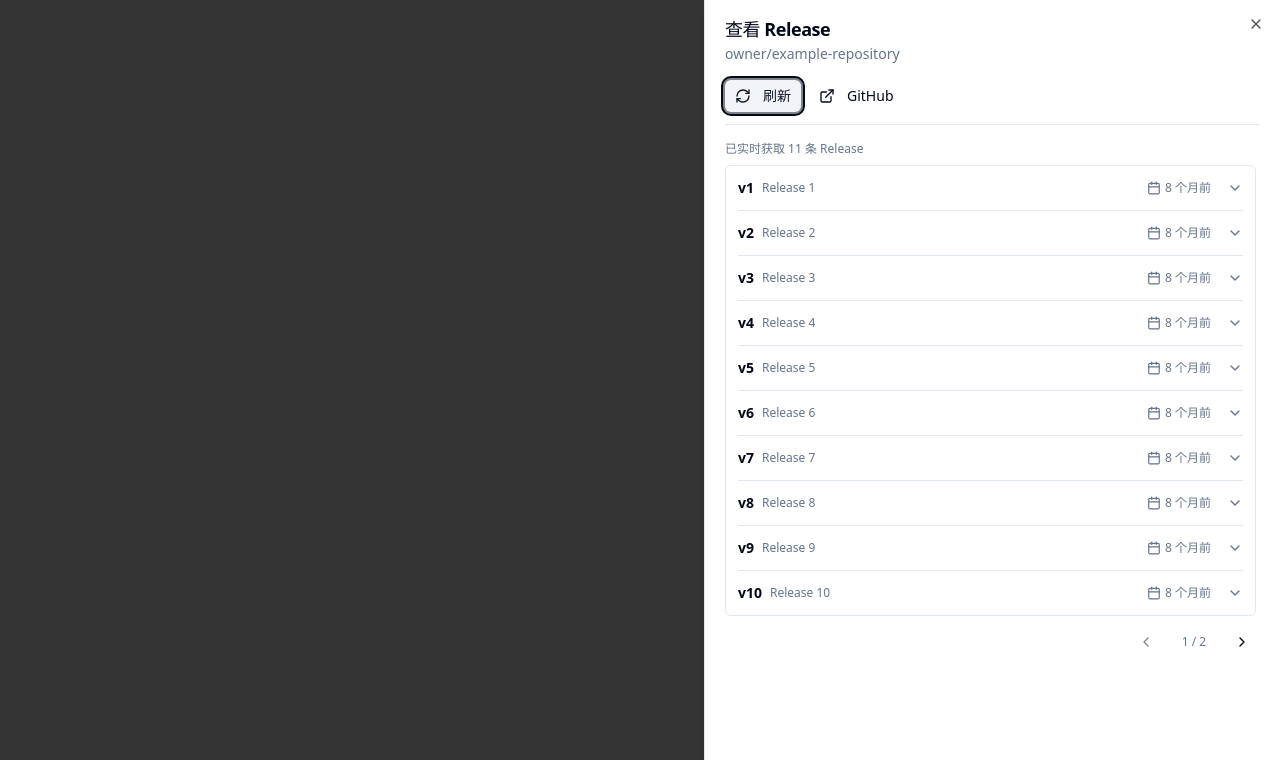
RepositoryReleaseSheet › paginates releases and assets while including source code ZIP/TAR downloads
Expected: the text "v1" is shown, [738,178,754,198]
Expected: the text "v11" is not shown
Click the button named "Release 分页 next page" at (1242, 642), box [1228,628,1256,656]
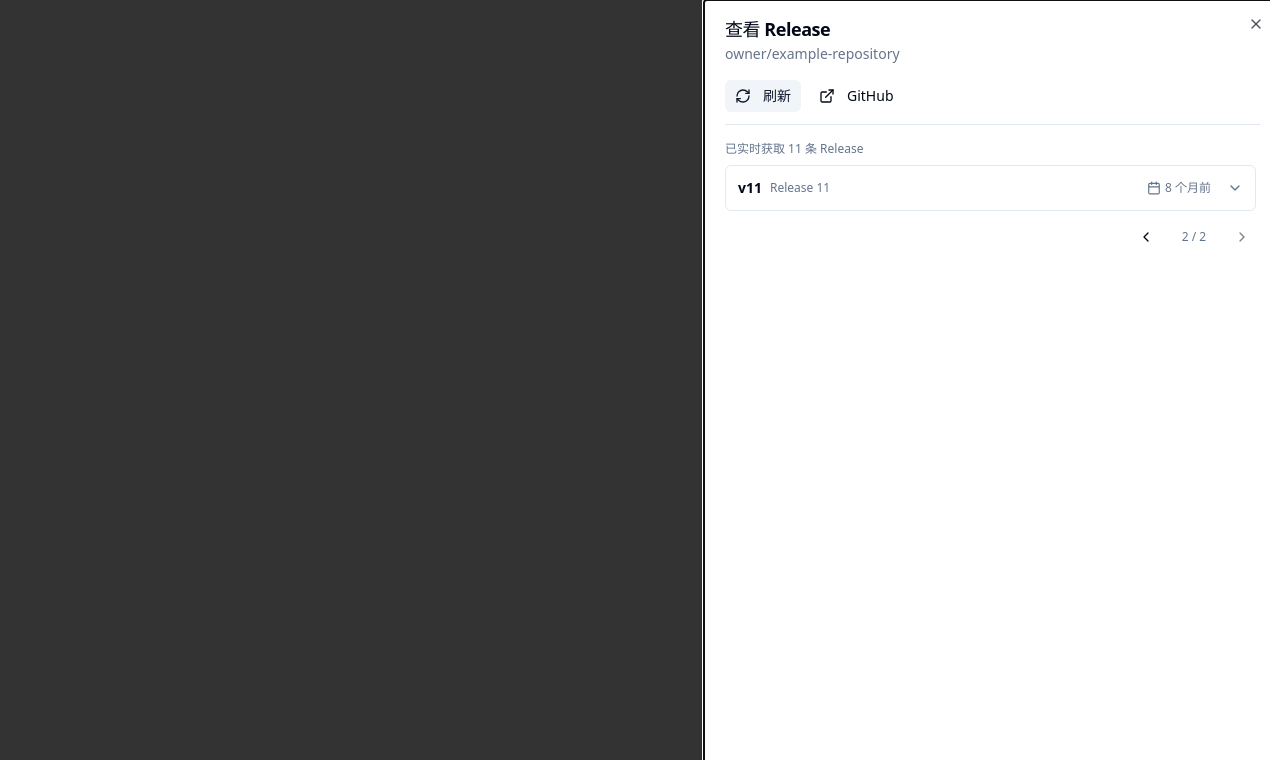
Expected: the text "v11" is shown, [738,178,762,198]
Click the button named "Release 分页 previous page" at (1146, 237), box [1132,223,1160,251]
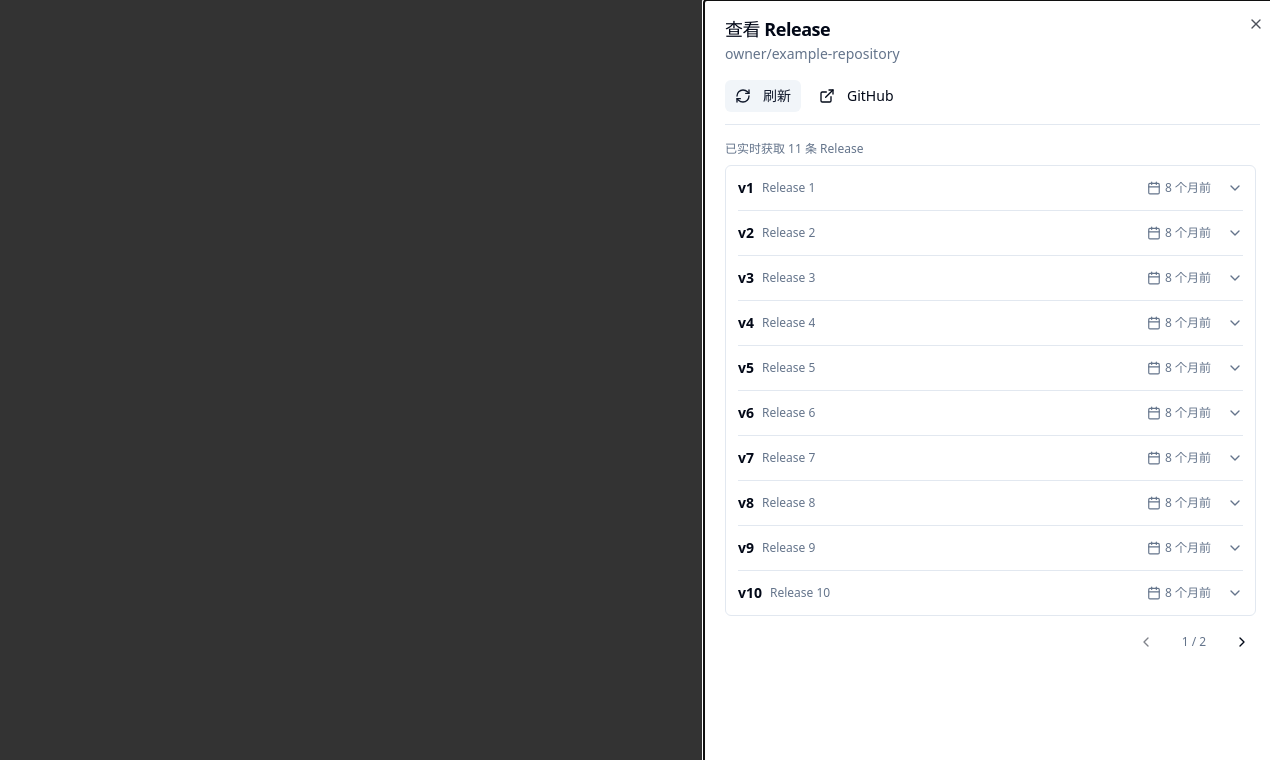
Click the button "v1" at (789, 188), box [738,166,1243,210]
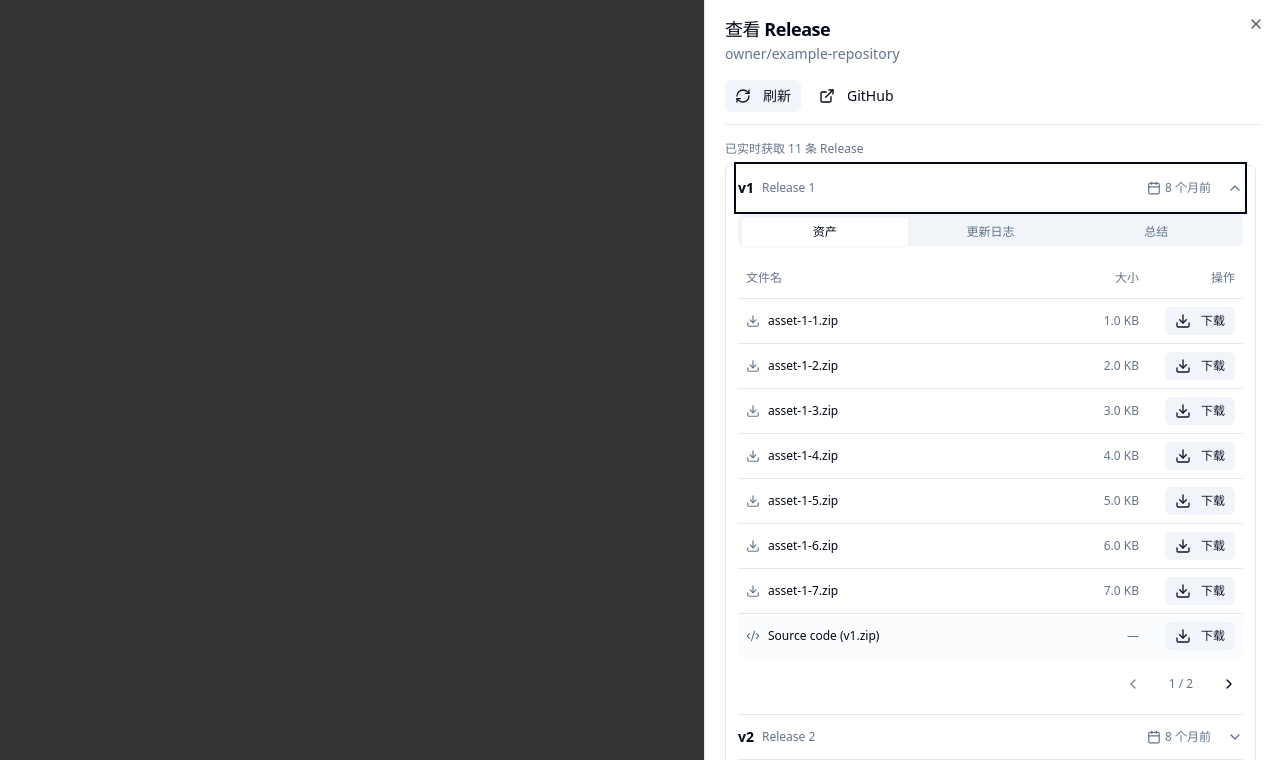
Expected: the text "Source code (v1.zip)" is shown, [768,628,879,644]
Click the button "下载" in the row of "Source code (v1.zip)" at (1200, 636), box [1165,622,1235,650]
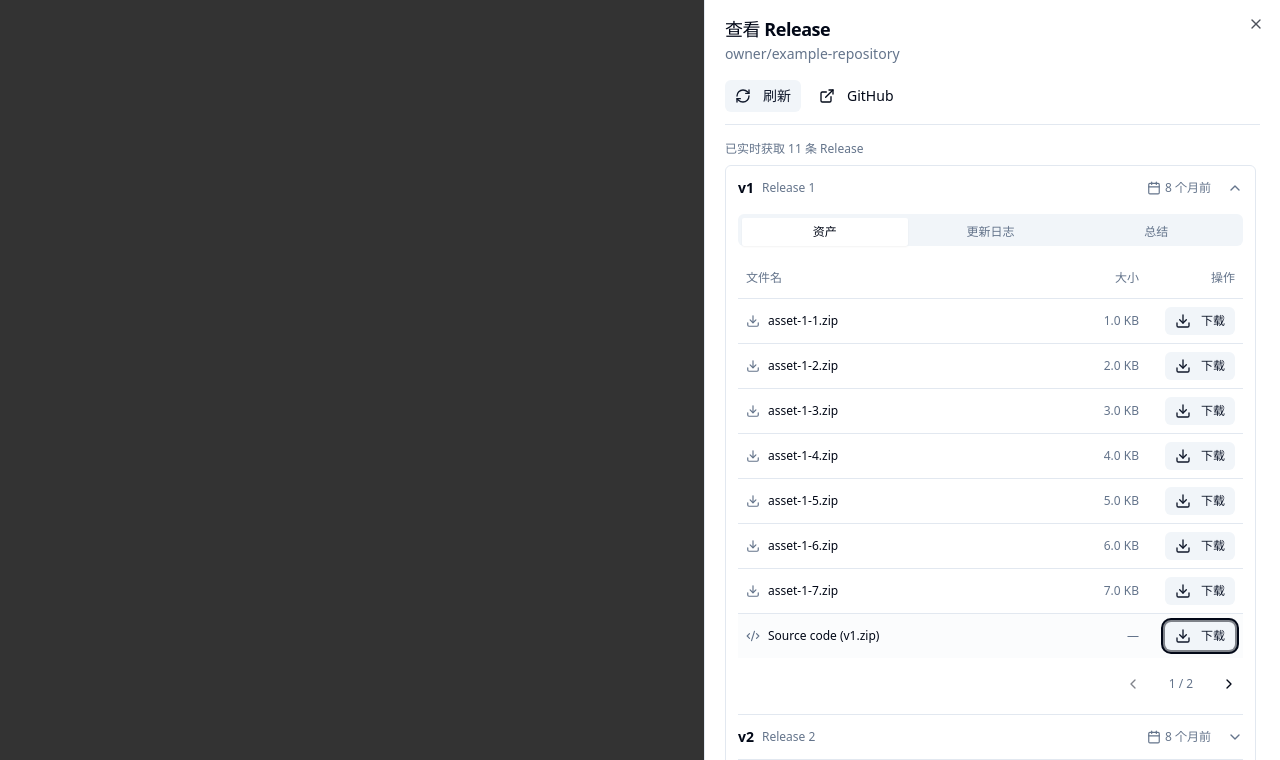
Expected: the text "Source code (v1.tar.gz)" is not shown
Click the button named "v1 资产分页 next page" at (1229, 684), box [1215,670,1243,698]
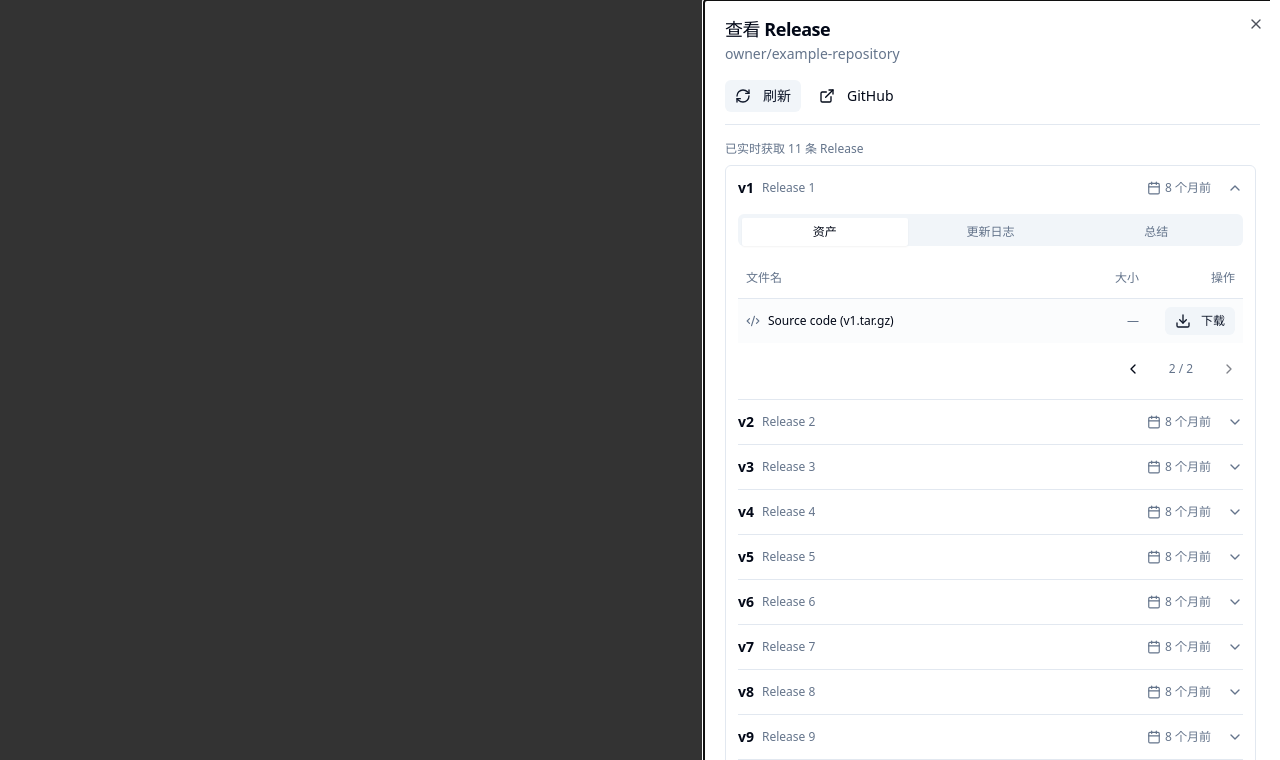
Expected: the text "Source code (v1.tar.gz)" is shown, [768,312,894,328]
